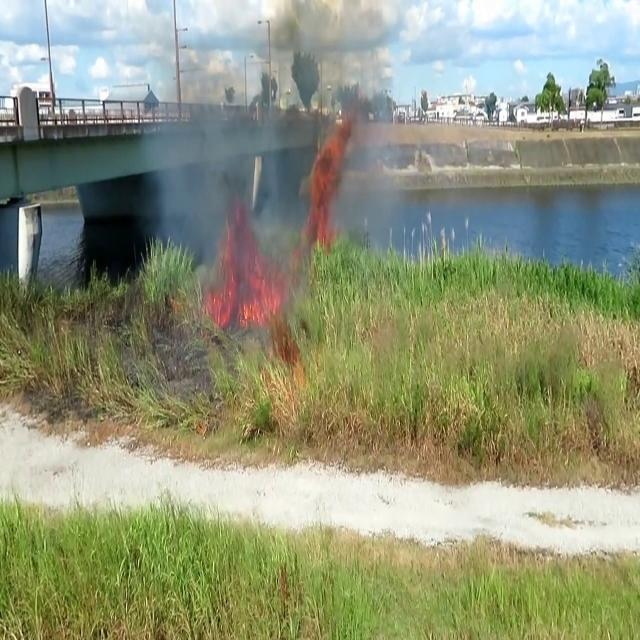Fire: (298, 122, 352, 246)
Smoke: (138, 3, 426, 310)
